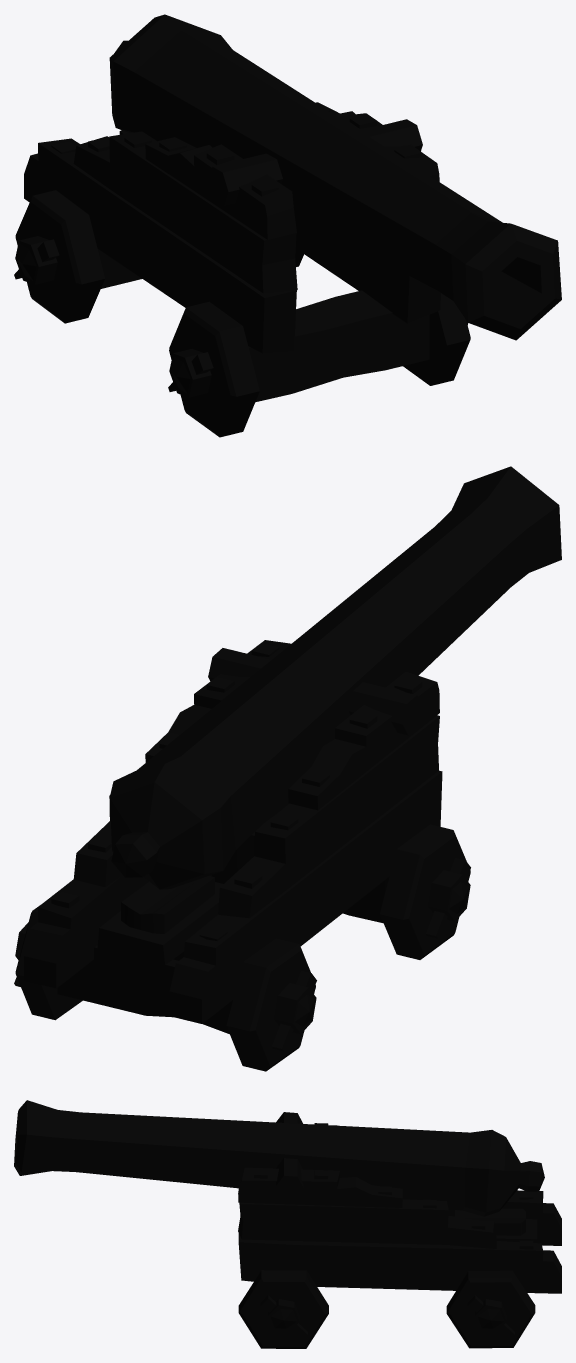
File: SM_Prop_Cannon_LowDetail_02.fbx
The picture shows the model from 3 angles, top to bottom: view 1: azimuth 30°, elevation 25°; view 2: azimuth 150°, elevation 25°; view 3: azimuth 270°, elevation 25°; orthographic projection. The views are drawn at different scales.
Parts seen in each view (by area): view 1: node_id4; view 2: node_id4; view 3: node_id4.
Part boxes in pixels (x1,y1,x2,y2): node_id4: (14, 14, 561, 437); node_id4: (14, 466, 561, 1071); node_id4: (14, 1100, 561, 1348).
Size of the model in its own units: 0.4916 by 0.512 by 1.21.
1 material, 1 textured.
